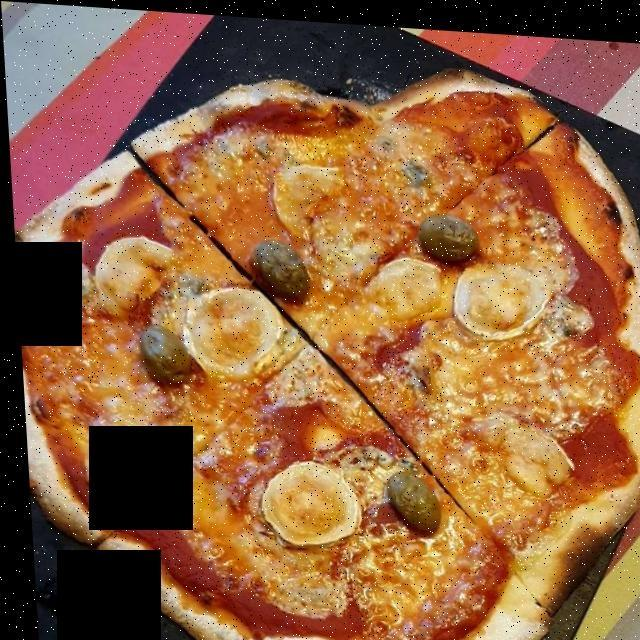green-olives: (128, 207, 476, 531)
pizza: (15, 78, 640, 640)
